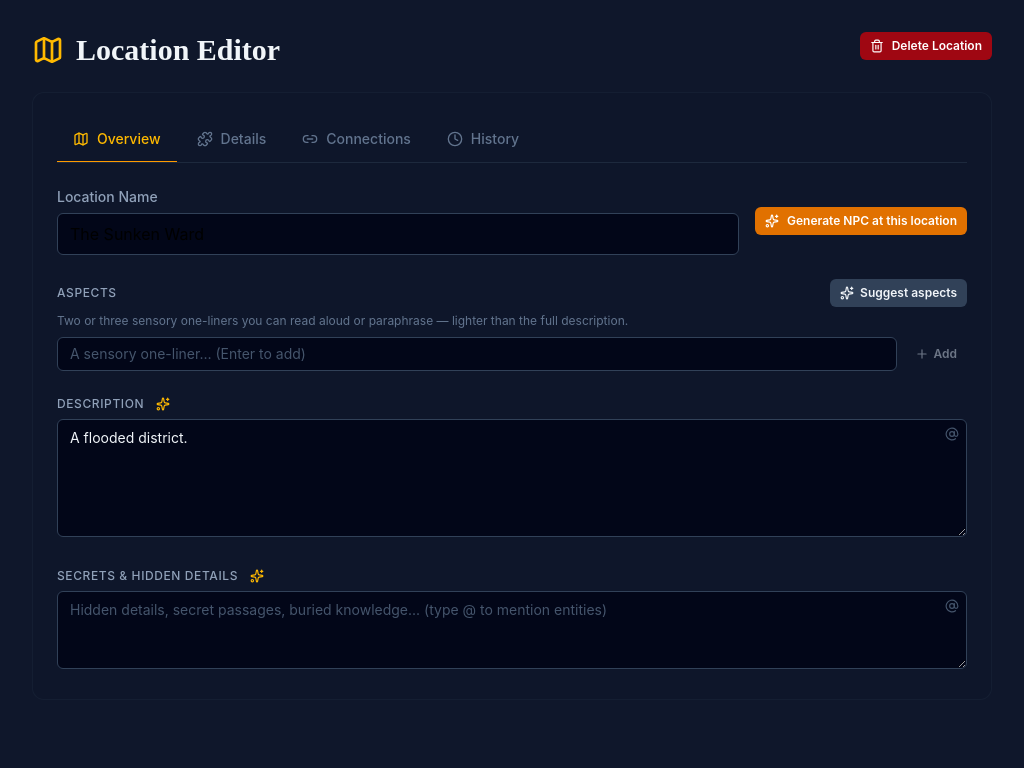
Test: LocationEditor — Suggest aspects (zero-typed-prompt AI) › shows a message rather than doing nothing when the suggestion comes back empty
The width and height of the screenshot is (1024, 768).
Click the button "Suggest aspects": x=899, y=293 [830,279,967,307]
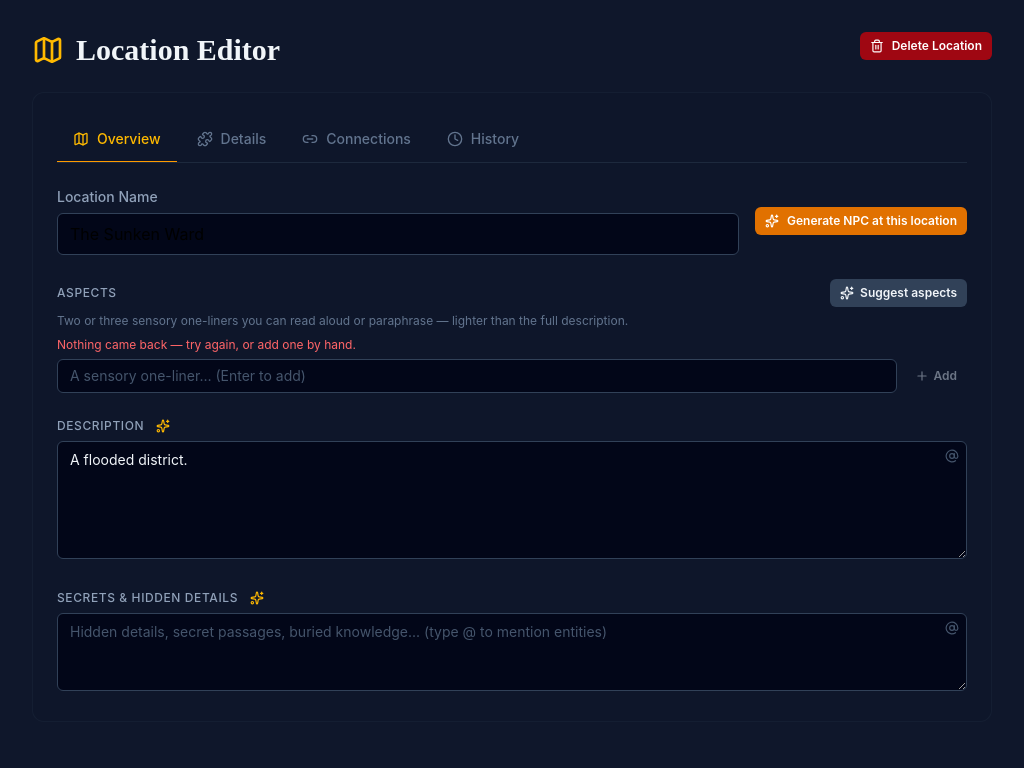
Now the message reads "Nothing came back — try again, or add one by hand.", box [57,337,356,352]
